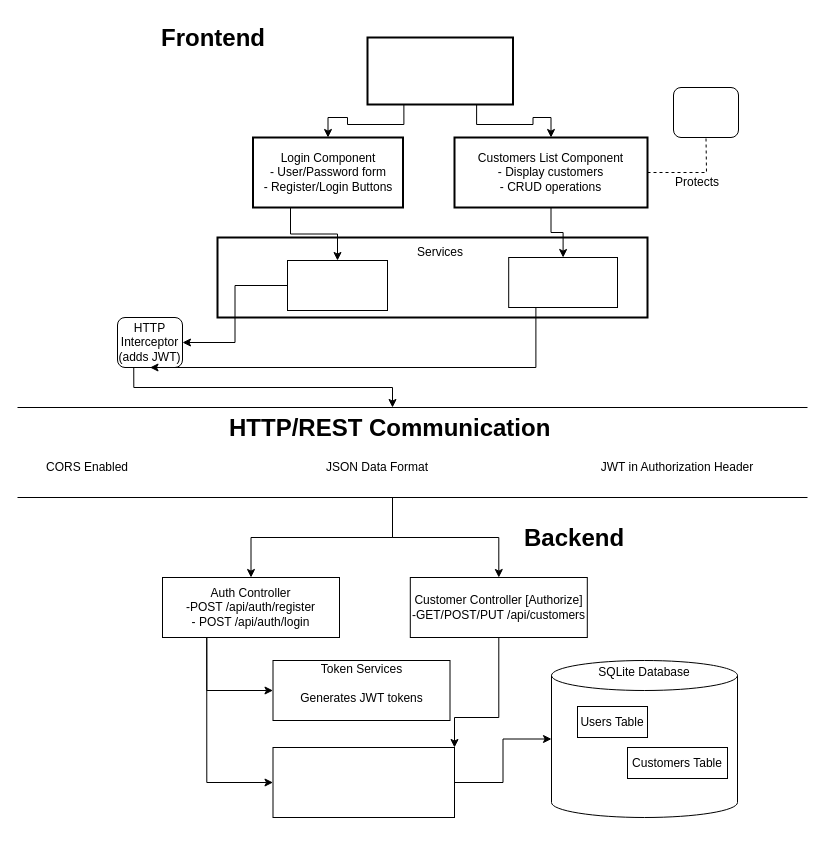
This 826x855 diagram has some shape labels left out. Each missing label, with the centre of its shape:
"- Auth Service (manages tokens)" belongs at (337,285).
"- Customer Service (API calls)" belongs at (563,282).
"AppDBContext (EF Core) ORM Layer" belongs at (363,782).
"Auth Guard (protects routes)" belongs at (705,112).
"User browser" belongs at (440,70).
